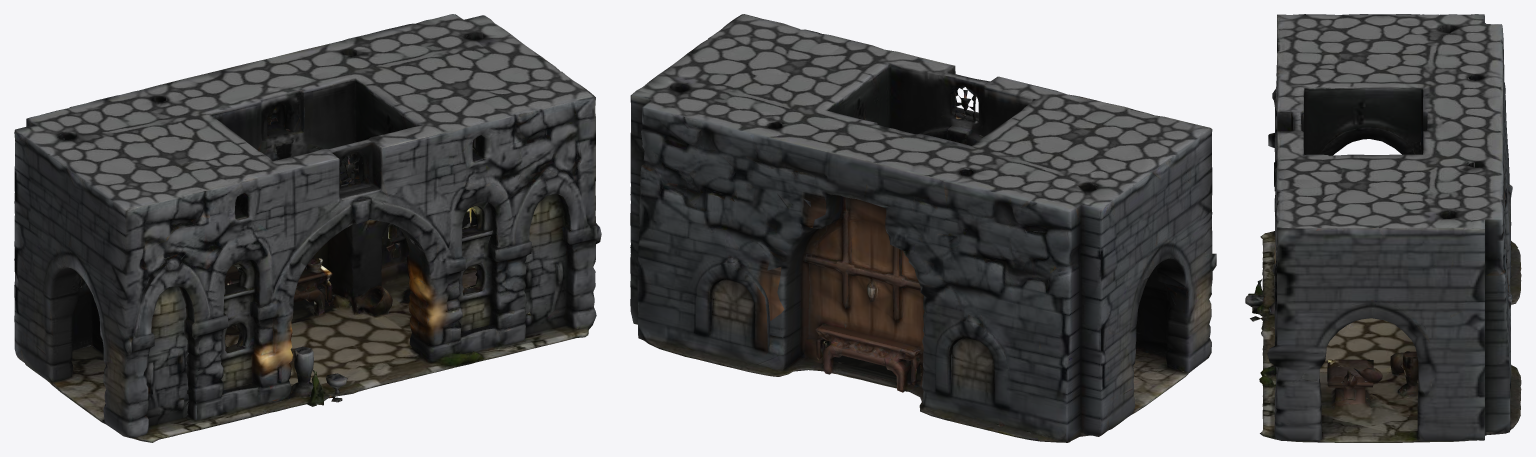
Rendered from Dwarven Building #20_final.glb.
3 renders of one model, left to right at view 1: azimuth 30°, elevation 25°; view 2: azimuth 150°, elevation 25°; view 3: azimuth 270°, elevation 25°, orthographic. The views are drawn at different scales.
Size of the model in its own units: 1.91 by 0.9045 by 1.04.
1 material, 1 textured.
